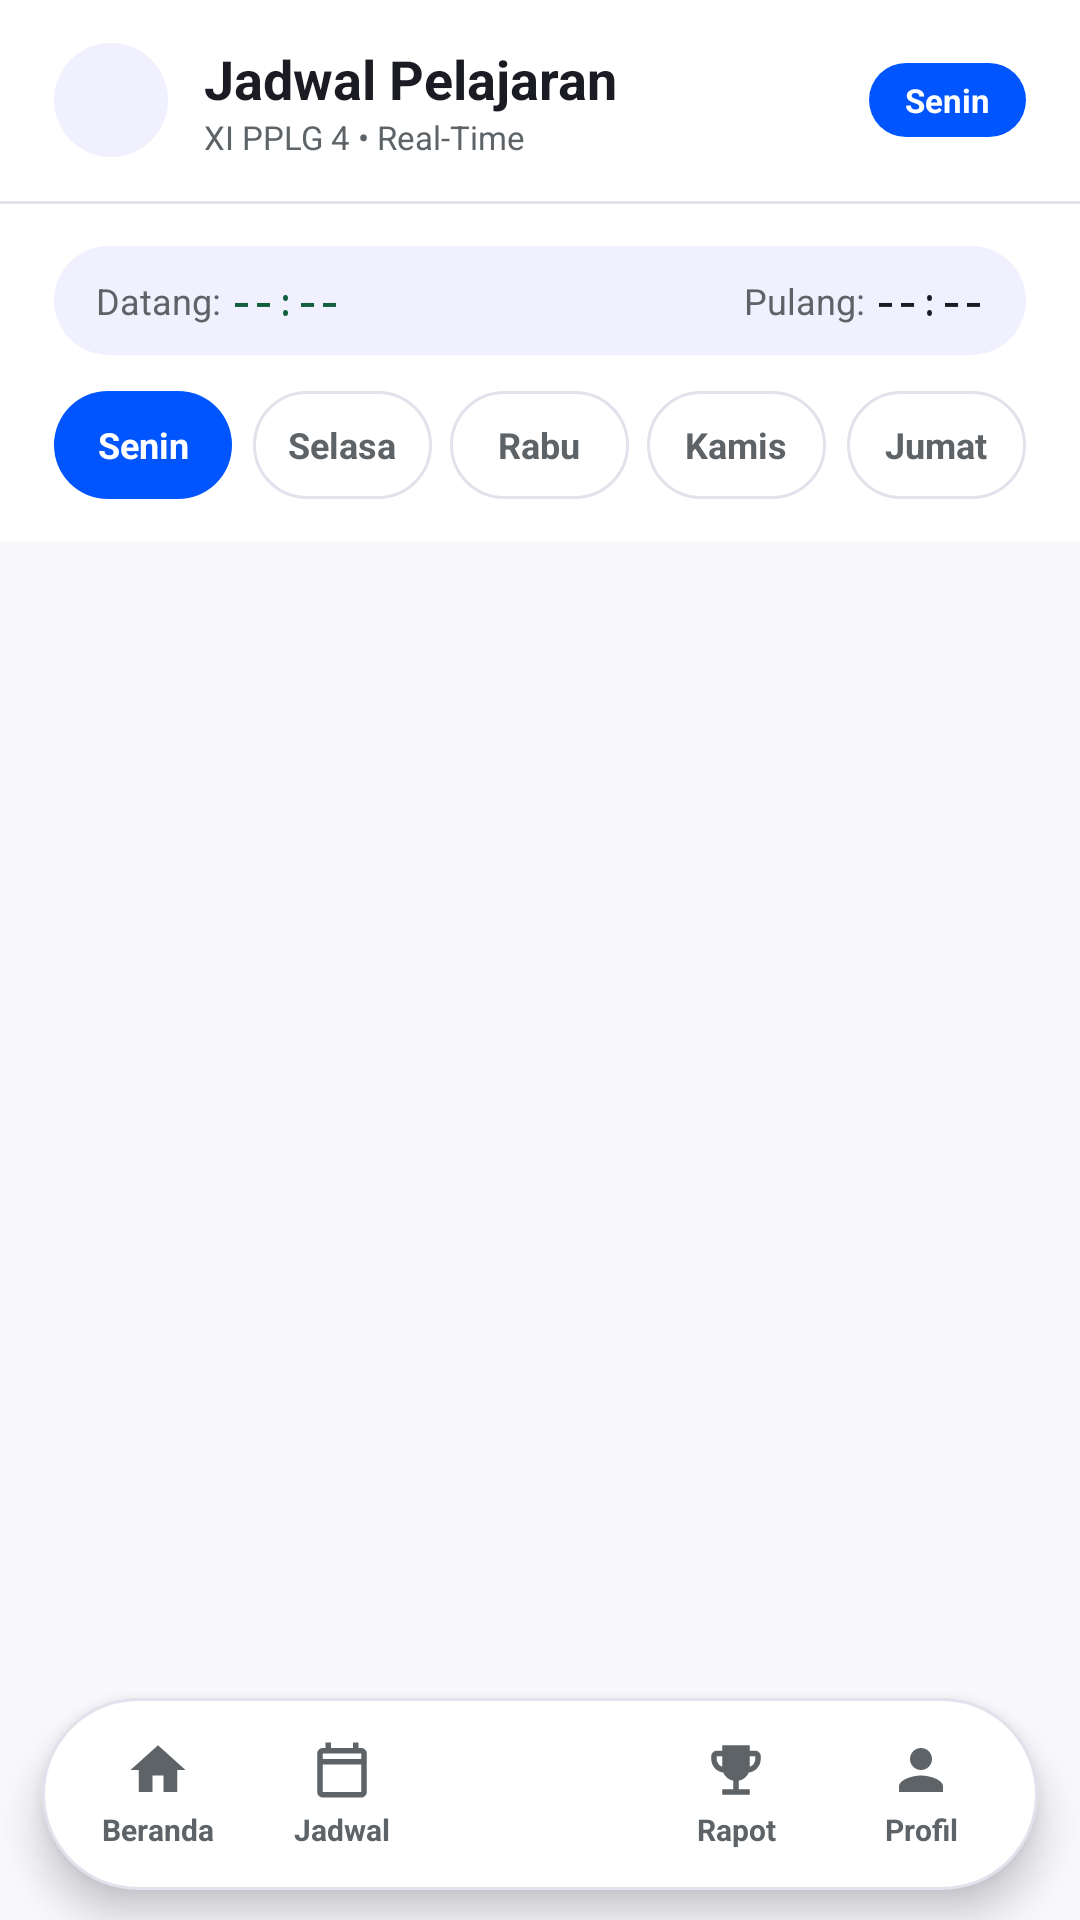

Locate icon controls on the screen. Image size 1080x1920, boxes as (x1, y1, x2, y2).
award: (711, 1745, 761, 1795)
calendar: (317, 1742, 367, 1798)
person: (899, 1748, 943, 1792)
